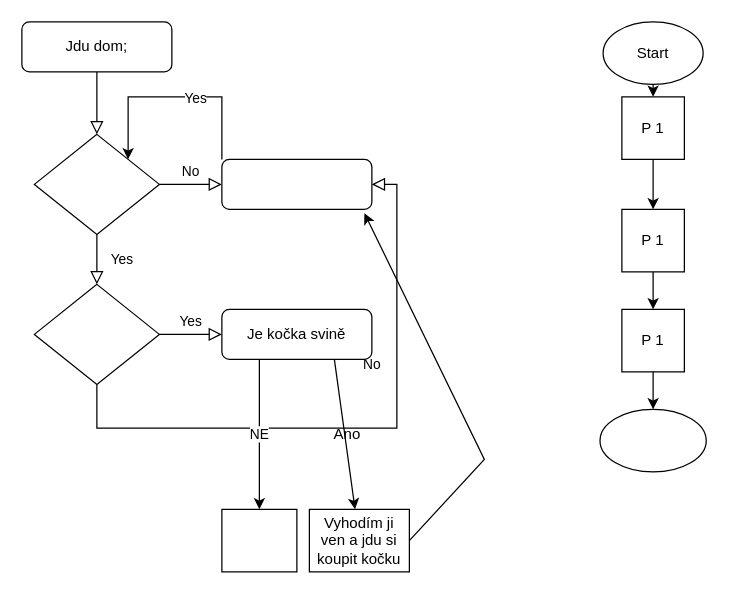
Some shapes in this 729 by 594 pixel diagram are drawn without their labels. The box of each missing label's shape, as (x1, y1, x2, y2) in pixels:
Jdu se mazlit: (221, 508, 297, 572)
Jdu si koupit kočku: (221, 158, 372, 209)
Je kočka živá: (33, 283, 159, 384)
Mám kočku doma: (33, 133, 159, 234)
